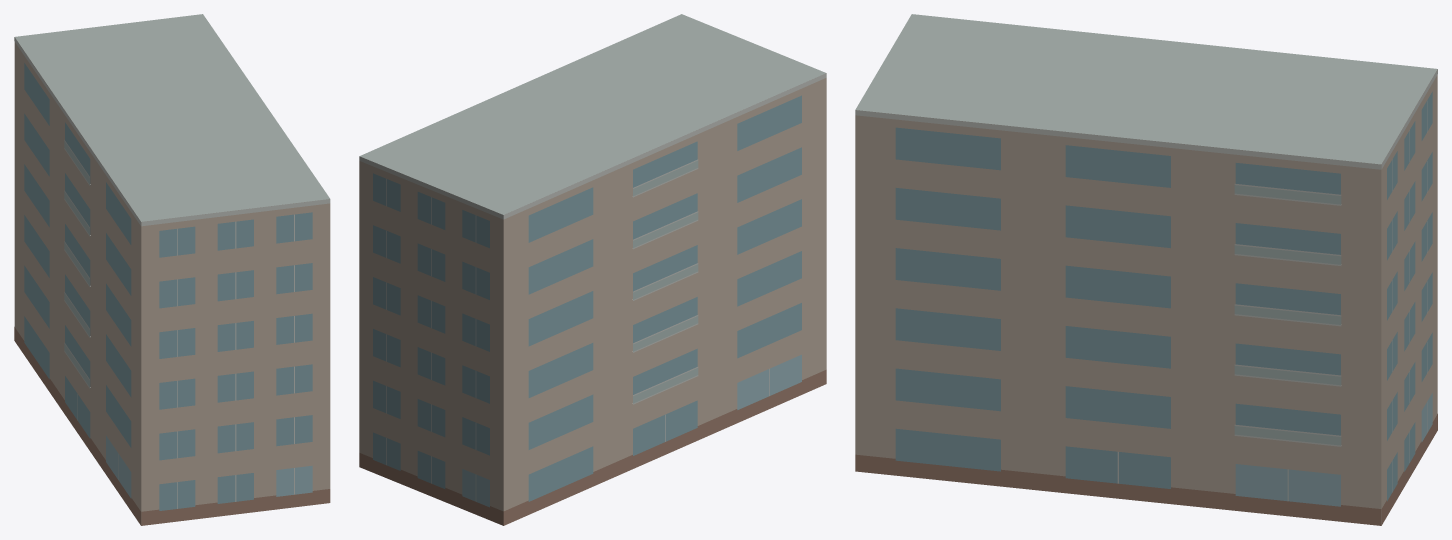
The model's file is survey-upis-32872295.glb.
3 views of the same model, side by side, from view 1: azimuth 30°, elevation 25°; view 2: azimuth 150°, elevation 25°; view 3: azimuth 270°, elevation 25° (orthographic). The views are drawn at different scales.
Parts seen in each view (by area): view 1: survey-upis-32872295.tmp; view 2: survey-upis-32872295.tmp; view 3: survey-upis-32872295.tmp.
Boxes of the visible parts, left/top/right/bottom form: survey-upis-32872295.tmp: left=14, top=14, right=330, bottom=525; survey-upis-32872295.tmp: left=359, top=14, right=826, bottom=525; survey-upis-32872295.tmp: left=855, top=14, right=1437, bottom=525.
Size of the model in its own units: 14.83 by 16.6 by 24.26.
